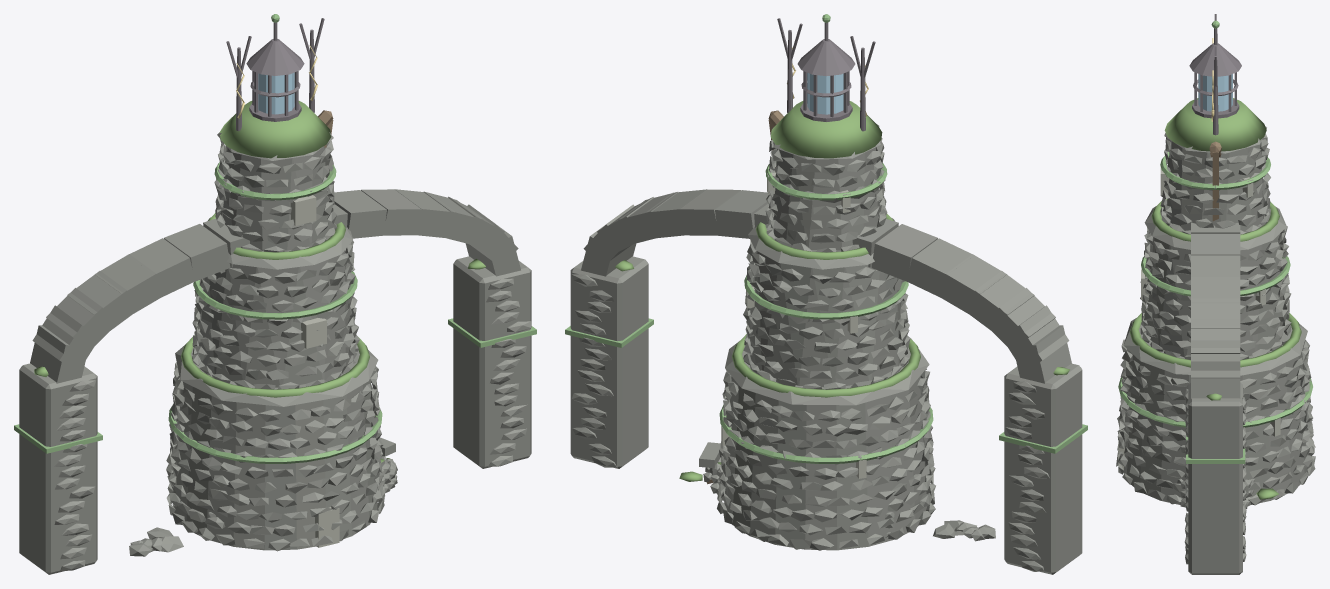
File: ThunderF27Kit.fbx
3 renders of one model, left to right at view 1: azimuth 30°, elevation 25°; view 2: azimuth 150°, elevation 25°; view 3: azimuth 270°, elevation 25°, orthographic. The views are drawn at different scales.
Visible parts, largest first — view 1: BrochKeepTower__STONE, InnerGateArch__STONE, BrochKeepTower__MOSS, BrochKeepTower__METAL, BrochKeepTower__ACCENT, BrochKeepTower__TRIM, LonghouseRuin__STONE, InnerGateArch__ACCENT, BrochKeepTower__CRYSTAL; view 2: BrochKeepTower__STONE, InnerGateArch__STONE, BrochKeepTower__MOSS, BrochKeepTower__METAL, BrochKeepTower__ACCENT, LonghouseRuin__STONE, InnerGateArch__ACCENT, BrochKeepTower__CRYSTAL, BrochKeepTower__TRIM; view 3: BrochKeepTower__STONE, InnerGateArch__STONE, BrochKeepTower__MOSS, BrochKeepTower__ACCENT, BrochKeepTower__METAL, BrochKeepTower__CRYSTAL, BrochKeepTower__TRIM, WindHarpTower__WOOD, InnerGateArch__ACCENT, LonghouseRuin__STONE.
Boxes of the visible parts, x1,y1,x2,y2 form: BrochKeepTower__STONE: [166, 132, 384, 551]; InnerGateArch__STONE: [19, 189, 531, 574]; BrochKeepTower__MOSS: [181, 101, 369, 397]; BrochKeepTower__METAL: [226, 18, 324, 131]; BrochKeepTower__ACCENT: [168, 14, 382, 463]; BrochKeepTower__TRIM: [170, 164, 339, 547]; LonghouseRuin__STONE: [129, 437, 397, 556]; InnerGateArch__ACCENT: [14, 318, 536, 453]; BrochKeepTower__CRYSTAL: [258, 72, 294, 114]; BrochKeepTower__STONE: [717, 124, 935, 550]; InnerGateArch__STONE: [570, 189, 1082, 574]; BrochKeepTower__MOSS: [732, 101, 920, 397]; BrochKeepTower__METAL: [777, 18, 875, 131]; BrochKeepTower__ACCENT: [719, 14, 933, 463]; LonghouseRuin__STONE: [699, 442, 995, 541]; InnerGateArch__ACCENT: [565, 318, 1087, 453]; BrochKeepTower__CRYSTAL: [807, 73, 843, 114]; BrochKeepTower__TRIM: [721, 172, 866, 478]; BrochKeepTower__STONE: [1116, 126, 1315, 505]; InnerGateArch__STONE: [1184, 222, 1246, 574]; BrochKeepTower__MOSS: [1129, 98, 1301, 367]; BrochKeepTower__ACCENT: [1118, 20, 1312, 427]; BrochKeepTower__METAL: [1189, 14, 1241, 135]; BrochKeepTower__CRYSTAL: [1198, 74, 1232, 111]; BrochKeepTower__TRIM: [1118, 167, 1280, 472]; WindHarpTower__WOOD: [1209, 141, 1221, 221]; InnerGateArch__ACCENT: [1186, 435, 1245, 463]; LonghouseRuin__STONE: [1177, 478, 1254, 508].
Size of the model in its own units: 56.5 by 54.67 by 21.95.
